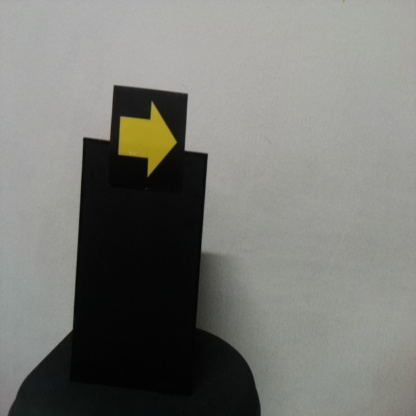id_3: (112, 88, 185, 190)
